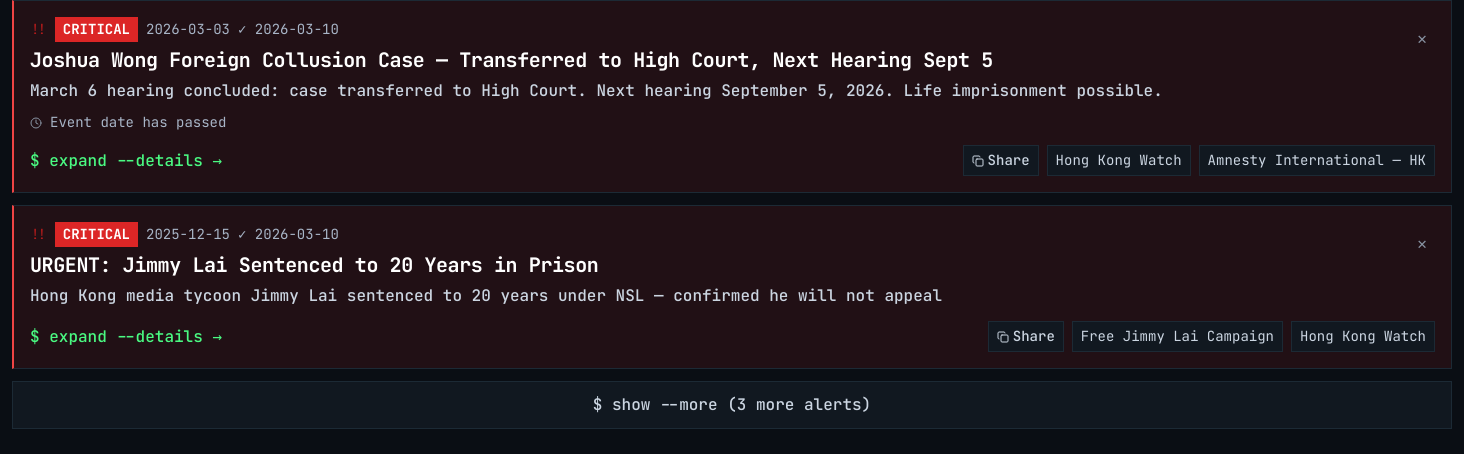
it: EmergencyAlerts › shows dismissed count after dismissing
Step 1. Click the button named "Dismiss alert" → click(1422, 39), box [1409,17,1435,60]
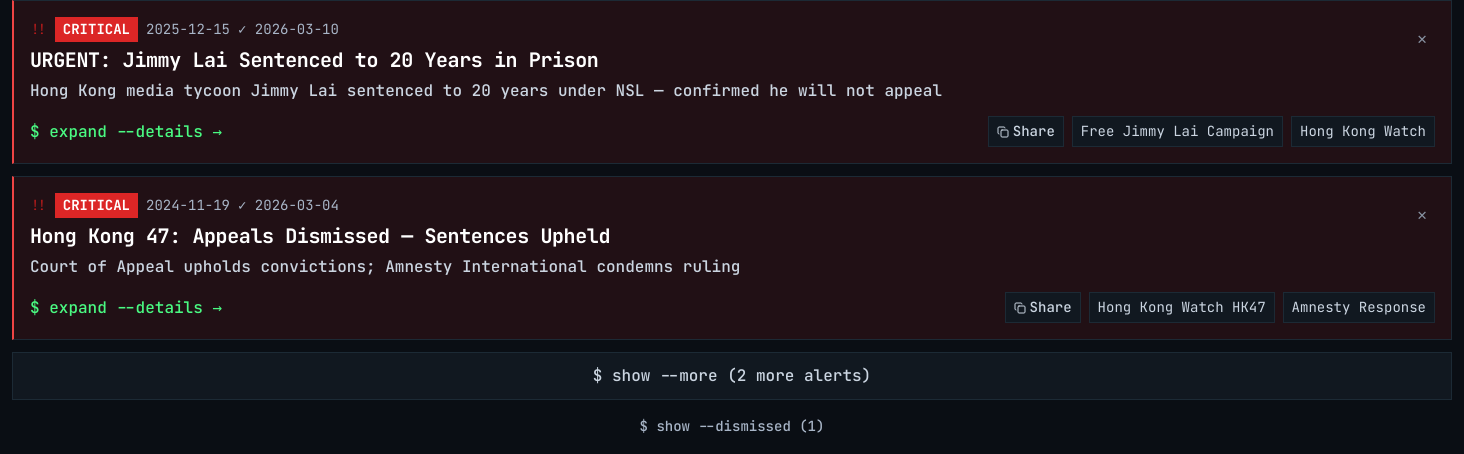
expect the button "$ show --dismissed (1)" is shown: met, box [640,416,824,437]
